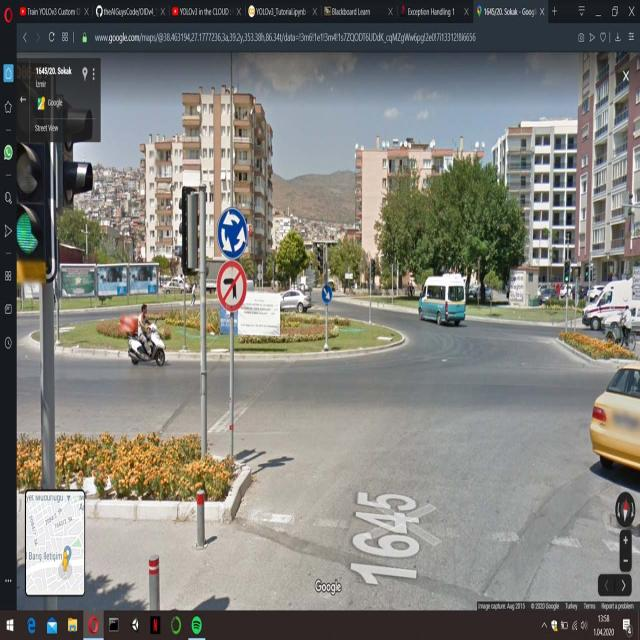soladonulmez: (218, 263, 244, 310)
yesil: (17, 67, 53, 271)
